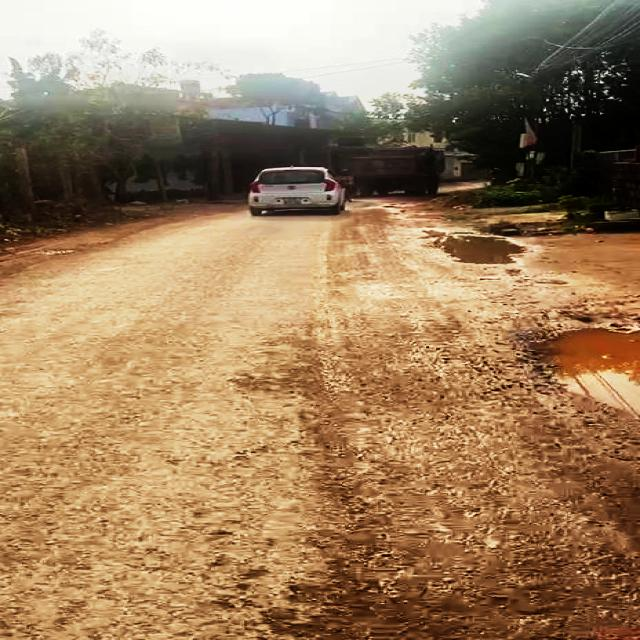pothole: (518, 319, 640, 419), (420, 227, 526, 267)
